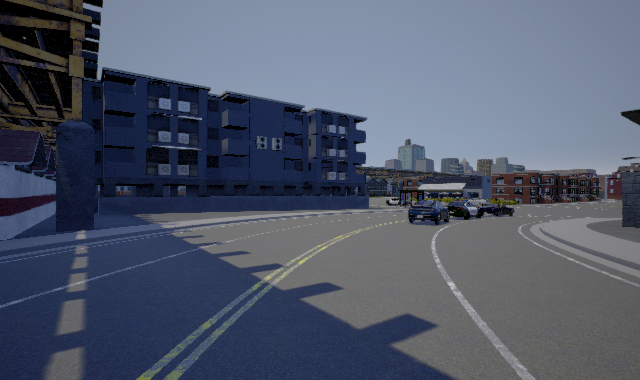vehicle: (408, 198, 452, 226), (446, 194, 486, 223), (478, 197, 525, 220)
